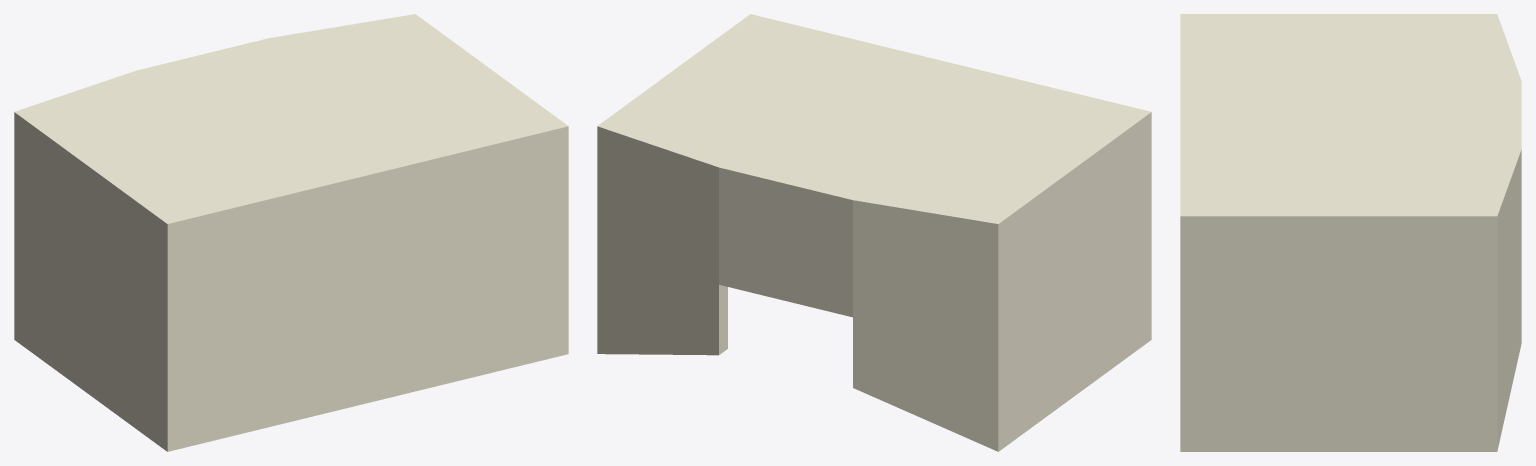
File: Zeus_Belt.FBX
3 views of the same model, side by side, from view 1: azimuth 30°, elevation 25°; view 2: azimuth 150°, elevation 25°; view 3: azimuth 270°, elevation 25° (orthographic). The views are drawn at different scales.
Visible parts, largest first — view 1: Belt_Zeus; view 2: Belt_Zeus; view 3: Belt_Zeus.
Part boxes in pixels (<box>): Belt_Zeus: <box>14,14,568,451</box>; Belt_Zeus: <box>597,14,1151,451</box>; Belt_Zeus: <box>1180,14,1521,451</box>.
Bounding box in the file's own units: 10.98 × 7.83 × 5.96.
Materials: 1 (1 with a texture image).
